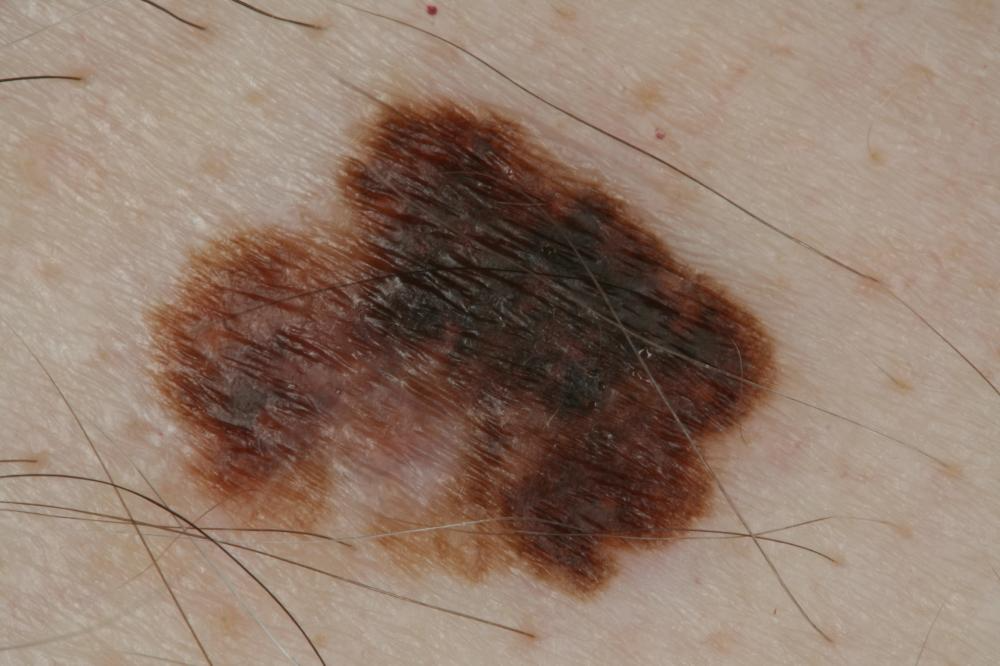Melanoma: (148, 97, 778, 601)
